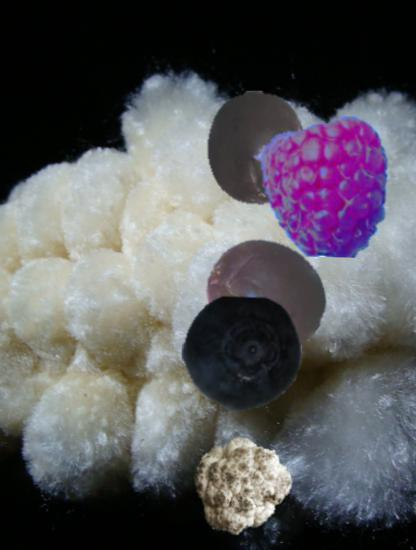Blueberry: (182, 294, 302, 414)
Cauliflower: (187, 436, 289, 538)
Passion: (203, 232, 328, 357), (198, 91, 315, 208)
Raspberry: (255, 116, 397, 258)
